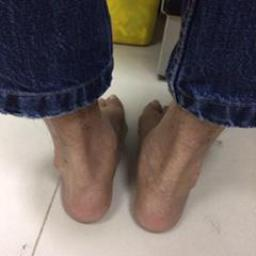Back View -Both Feet-: (30, 83, 236, 236)
